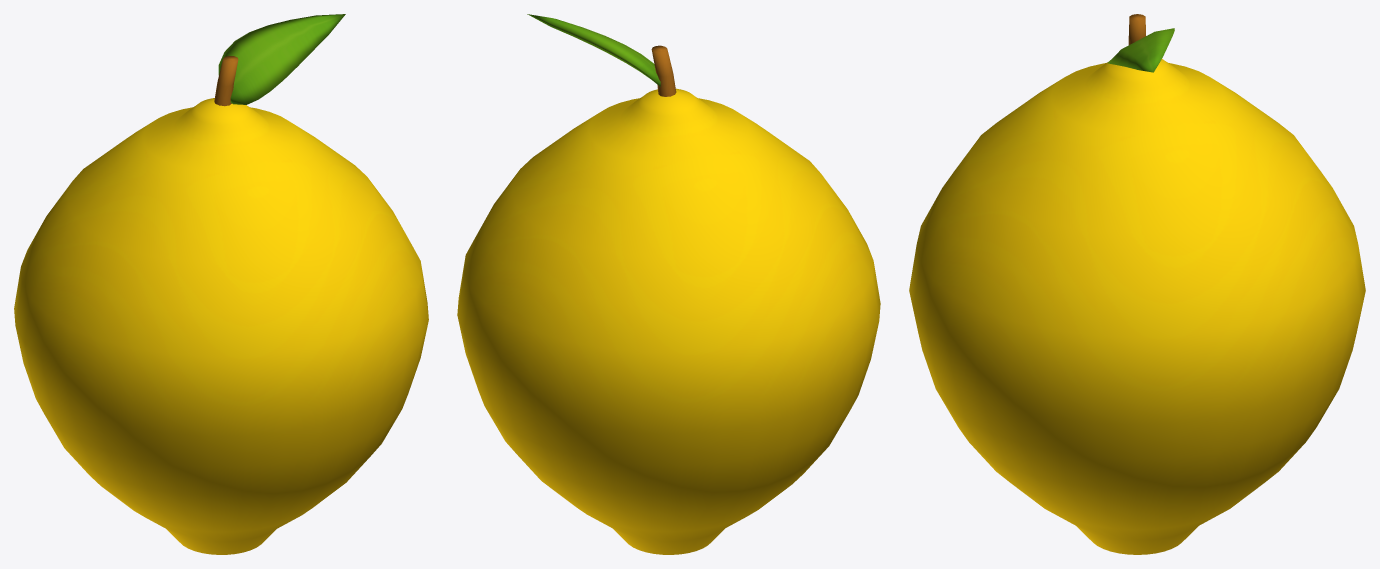
File: Limon.fbx
The picture shows the model from 3 angles, left to right: view 1: azimuth 30°, elevation 25°; view 2: azimuth 150°, elevation 25°; view 3: azimuth 270°, elevation 25°; orthographic projection. The views are drawn at different scales.
Parts seen in each view (by area): view 1: LimonMain_Export, Leaf.004_Export, Rootlet.002_Export; view 2: LimonMain_Export, Leaf.004_Export, Rootlet.002_Export; view 3: LimonMain_Export, Leaf.004_Export.
Part boxes in pixels (<box>): LimonMain_Export: <box>14,98,428,554</box>; Leaf.004_Export: <box>218,14,345,104</box>; Rootlet.002_Export: <box>214,56,238,106</box>; LimonMain_Export: <box>457,88,880,554</box>; Leaf.004_Export: <box>527,14,660,86</box>; Rootlet.002_Export: <box>651,45,676,96</box>; LimonMain_Export: <box>909,59,1365,554</box>; Leaf.004_Export: <box>1108,28,1174,72</box>.
Bounding box in the file's own units: 15.48 × 20.74 × 15.48.
